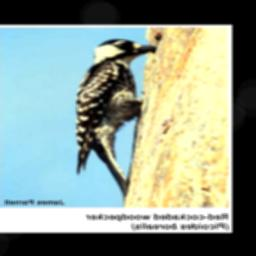Woodpecker: (70, 38, 162, 198)
